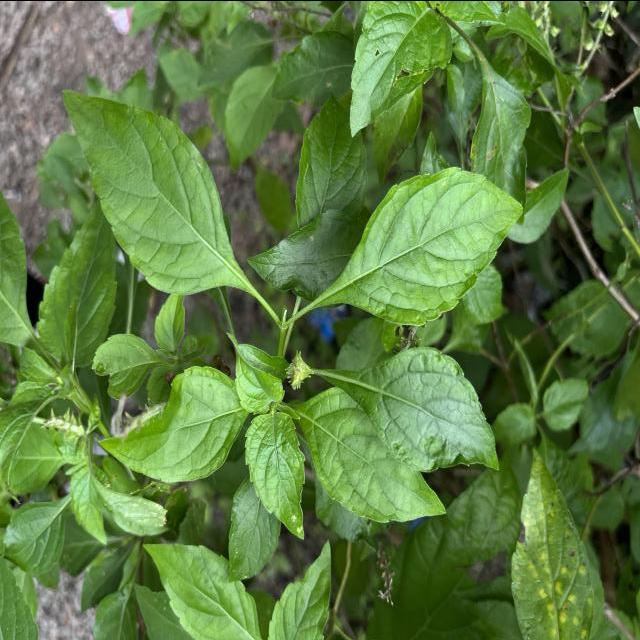Ocimum gratissimum: (59, 86, 268, 300), (288, 164, 528, 328), (308, 342, 506, 473), (286, 385, 448, 525), (93, 362, 247, 484), (349, 0, 455, 138), (142, 538, 270, 640), (241, 407, 307, 545), (266, 535, 340, 640)
